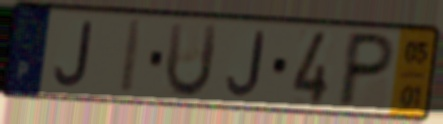4: (288, 28, 332, 108)
I: (117, 18, 147, 98)
J: (223, 29, 268, 100), (51, 19, 94, 90)
P: (333, 29, 399, 110)
U: (161, 20, 221, 101)
